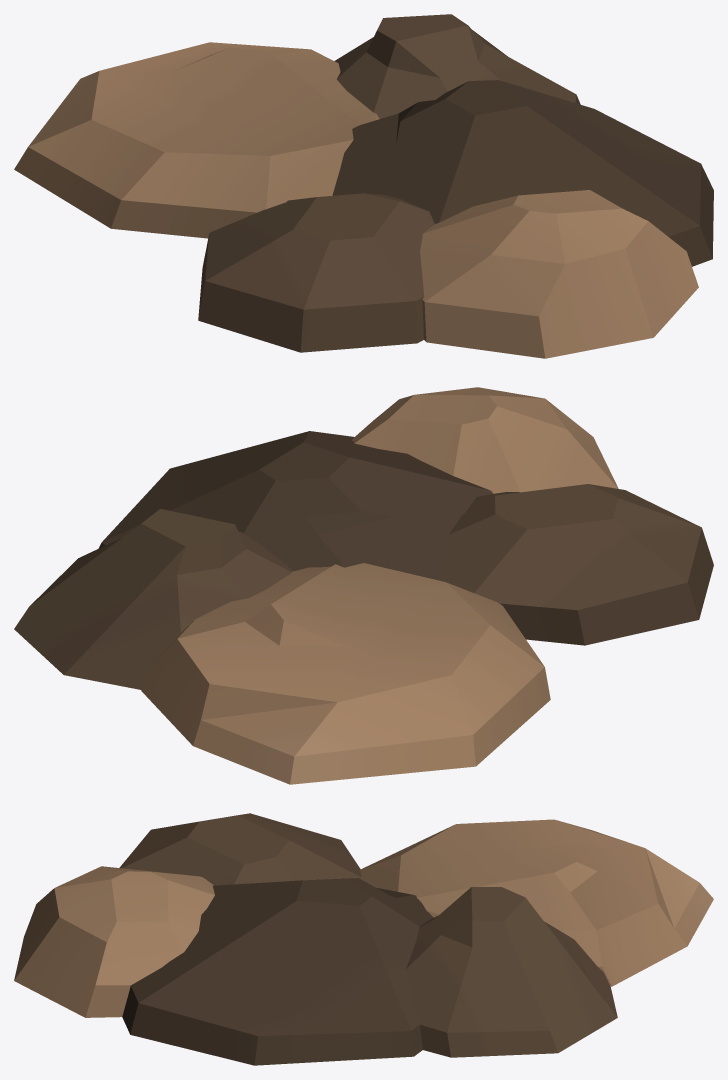
Rendered from ea_swamp_grass_hill_dead_01b_pre_lev1.glb.
3 views of the same model, one above another, from view 1: azimuth 30°, elevation 25°; view 2: azimuth 150°, elevation 25°; view 3: azimuth 270°, elevation 25° (orthographic). The views are drawn at different scales.
Visible parts, largest first — view 1: ea_swamp_grass_hill_dead_01b_pre_lev1; view 2: ea_swamp_grass_hill_dead_01b_pre_lev1; view 3: ea_swamp_grass_hill_dead_01b_pre_lev1.
Part boxes in pixels (x1=…): ea_swamp_grass_hill_dead_01b_pre_lev1: x1=14, y1=14, x2=713, y2=358; ea_swamp_grass_hill_dead_01b_pre_lev1: x1=14, y1=387, x2=713, y2=784; ea_swamp_grass_hill_dead_01b_pre_lev1: x1=14, y1=813, x2=713, y2=1065.
Size of the model in its own units: 1.86 by 0.3648 by 2.45.
1 material, 1 textured.
